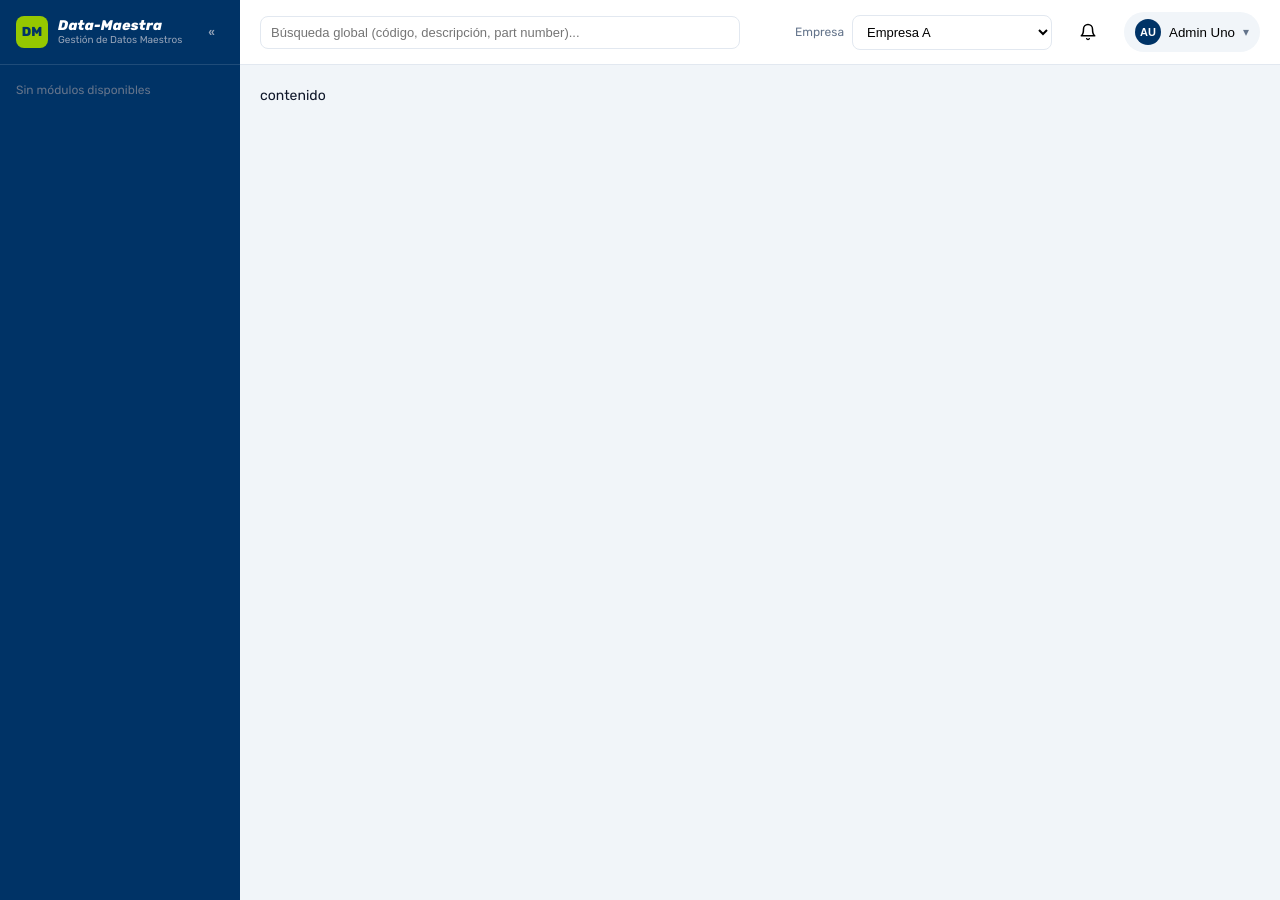
Test: Campana 11G › marcar leída descuenta el contador
Click the button named "Notificaciones" at (1088, 32), box [1064,14,1112,50]
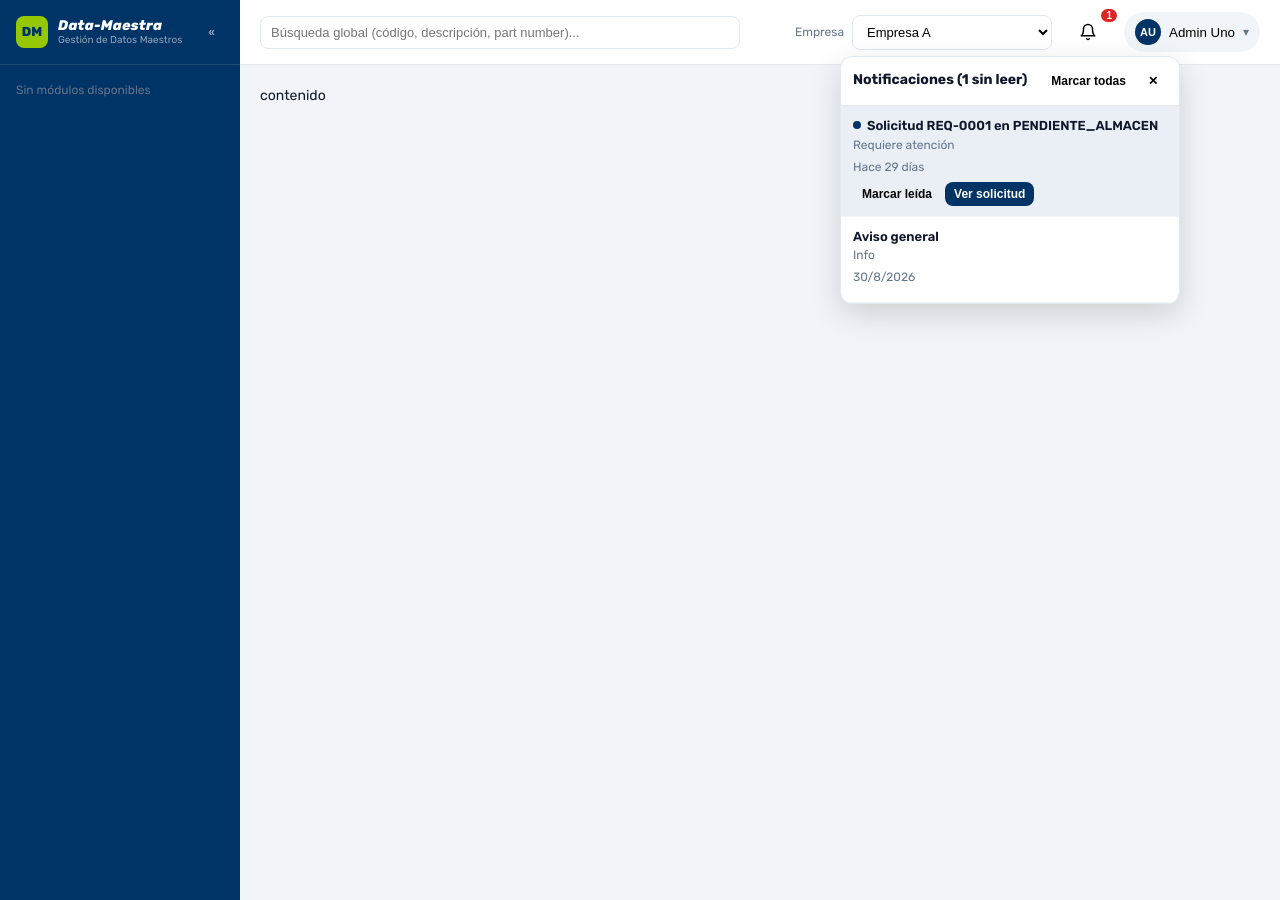
Expected: the text "Solicitud REQ-0001 en PENDIENTE_ALMACEN" is shown, [853,116,1167,136]
Click the button "Marcar leída" at (897, 194), box [853,182,941,206]
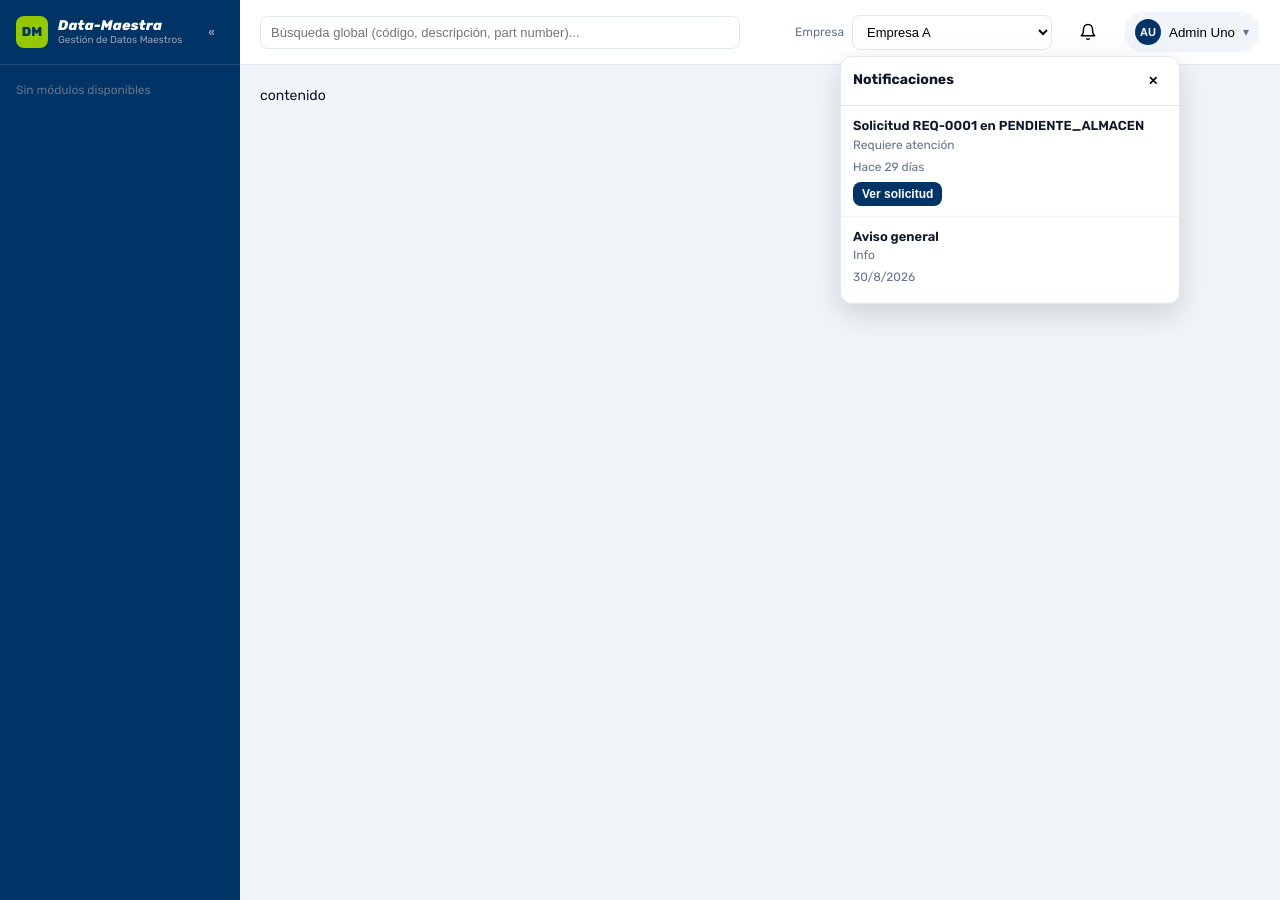
Expected: the button "Marcar leída" is gone
Expected: the text "sin leer" is gone
